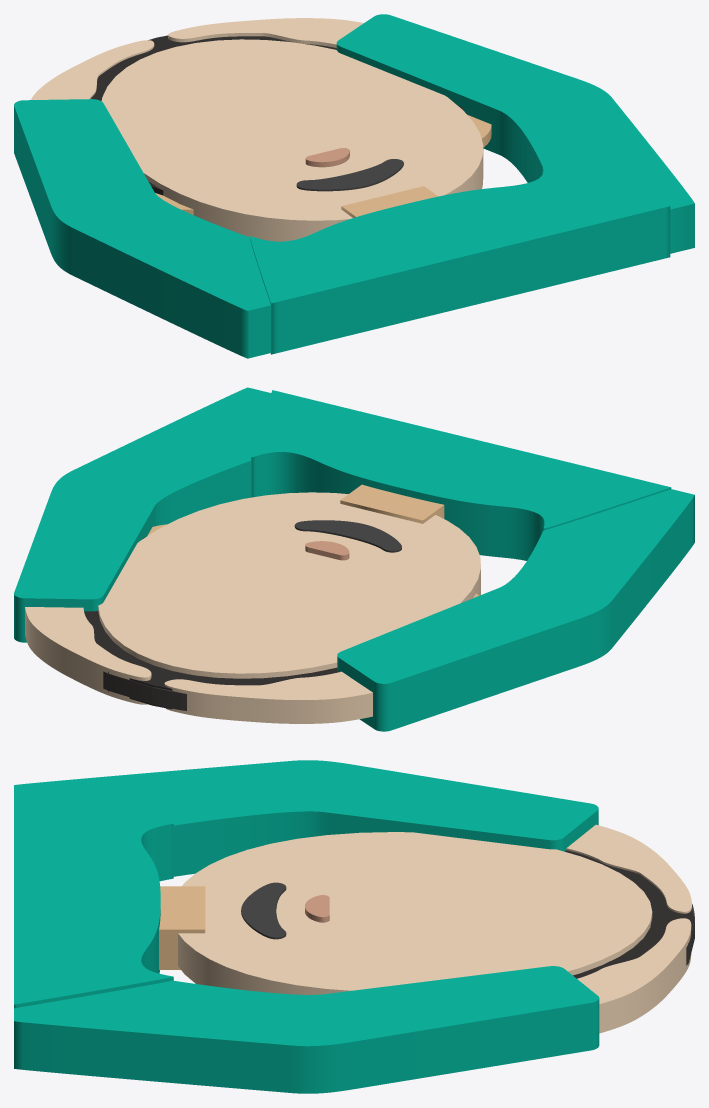
Rendered from emoji_u1f646_1f3fb_200d_2642.glb.
3 renders of one model, top to bottom at view 1: azimuth 30°, elevation 25°; view 2: azimuth 150°, elevation 25°; view 3: azimuth 270°, elevation 25°, orthographic. The views are drawn at different scales.
Visible parts, largest first — view 1: emoji_u1f646_1f3fb_200d_2642; view 2: emoji_u1f646_1f3fb_200d_2642; view 3: emoji_u1f646_1f3fb_200d_2642.
Boxes of the visible parts, x1,y1,x2,y2 form: emoji_u1f646_1f3fb_200d_2642: [14, 14, 694, 358]; emoji_u1f646_1f3fb_200d_2642: [14, 387, 694, 731]; emoji_u1f646_1f3fb_200d_2642: [14, 760, 694, 1093].
Bounding box in the file's own units: 0.0333 × 0.003 × 0.0337.
